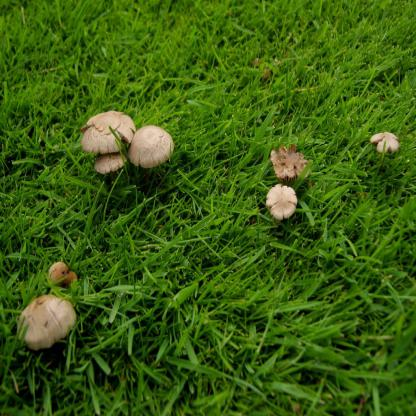Mushroom: (13, 297, 77, 356), (79, 108, 135, 158), (123, 124, 173, 172), (267, 144, 309, 183), (264, 188, 298, 220), (92, 152, 128, 178), (46, 262, 75, 289), (367, 132, 400, 153)
